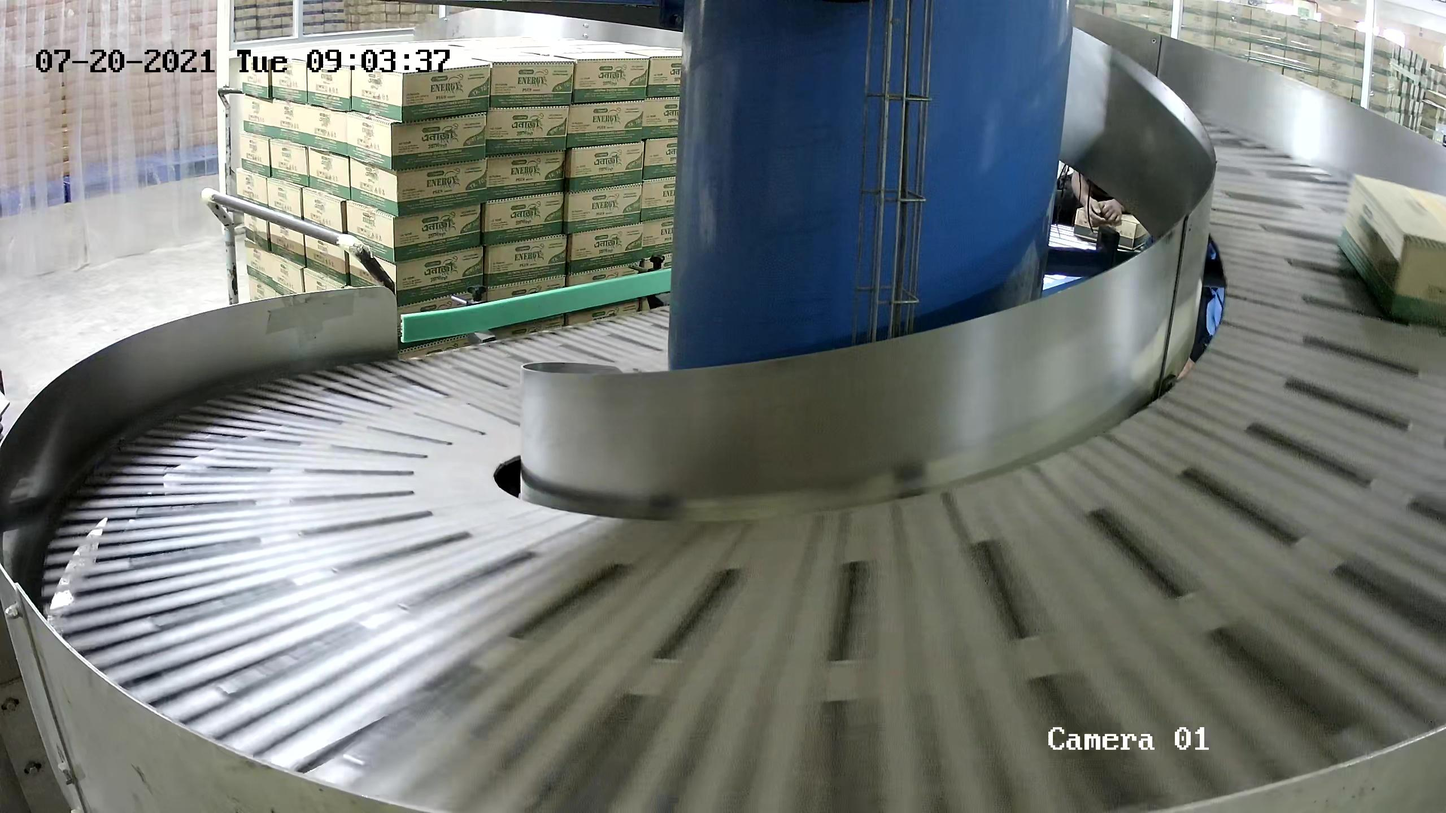Box: (1336, 171, 1446, 328)
